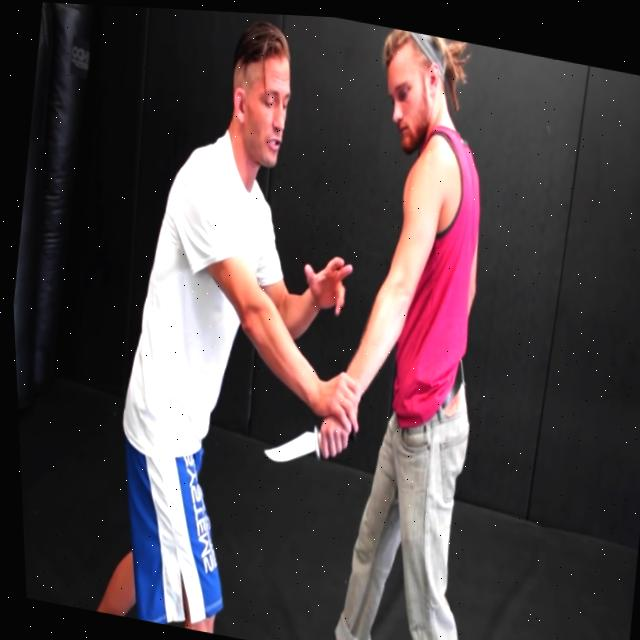knife: (252, 407, 322, 479)
